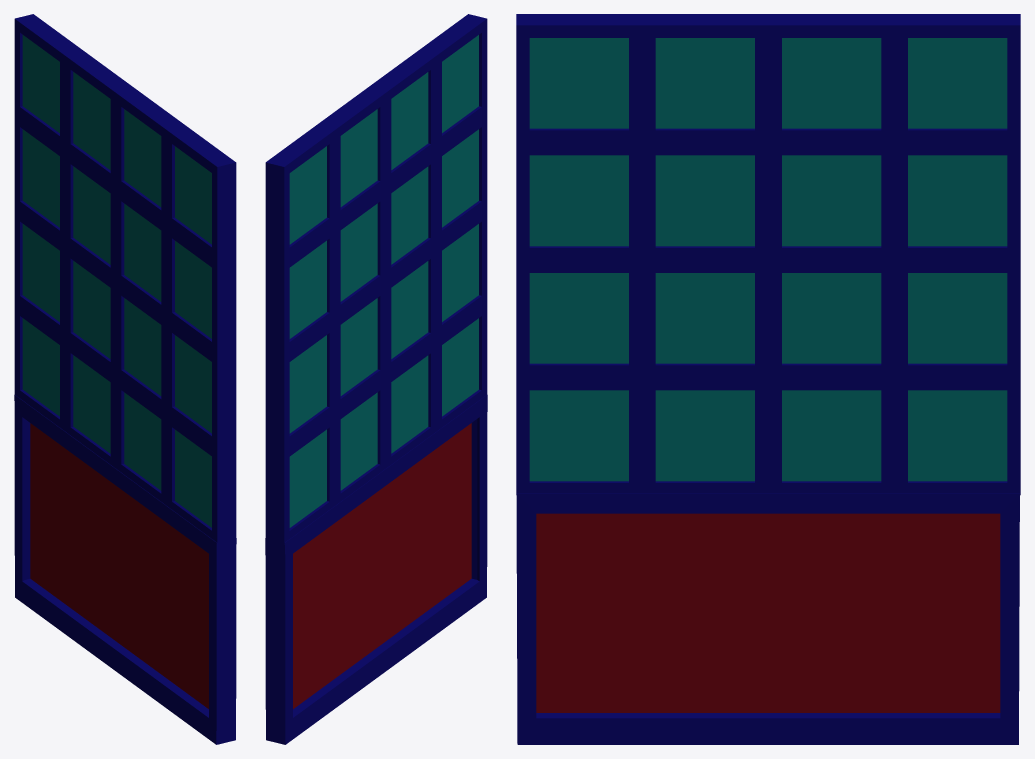
File: House_Door.fbx
3 views of the same model, side by side, from view 1: azimuth 30°, elevation 25°; view 2: azimuth 150°, elevation 25°; view 3: azimuth 270°, elevation 25° (orthographic). The views are drawn at different scales.
Parts seen in each view (by area): view 1: Puerta; view 2: Puerta; view 3: Puerta.
Boxes of the visible parts, box(x1,y1,x2,y2) form: Puerta: box(14, 14, 236, 744); Puerta: box(265, 14, 487, 744); Puerta: box(516, 14, 1020, 744).
Size of the model in its own units: 31.57 by 879 by 559.
